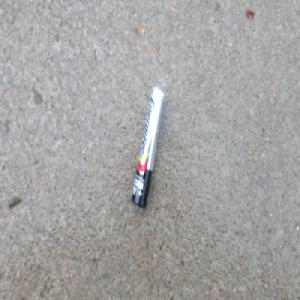Battery: (129, 85, 164, 210)
